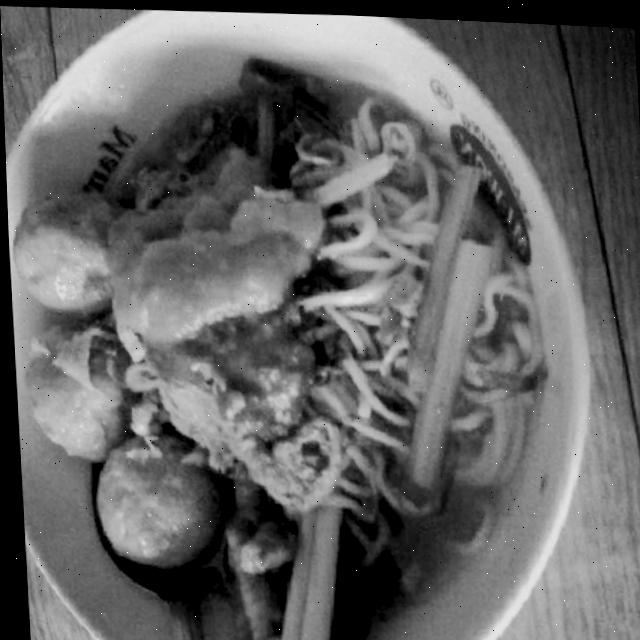面条主食: (1, 38, 547, 637)
